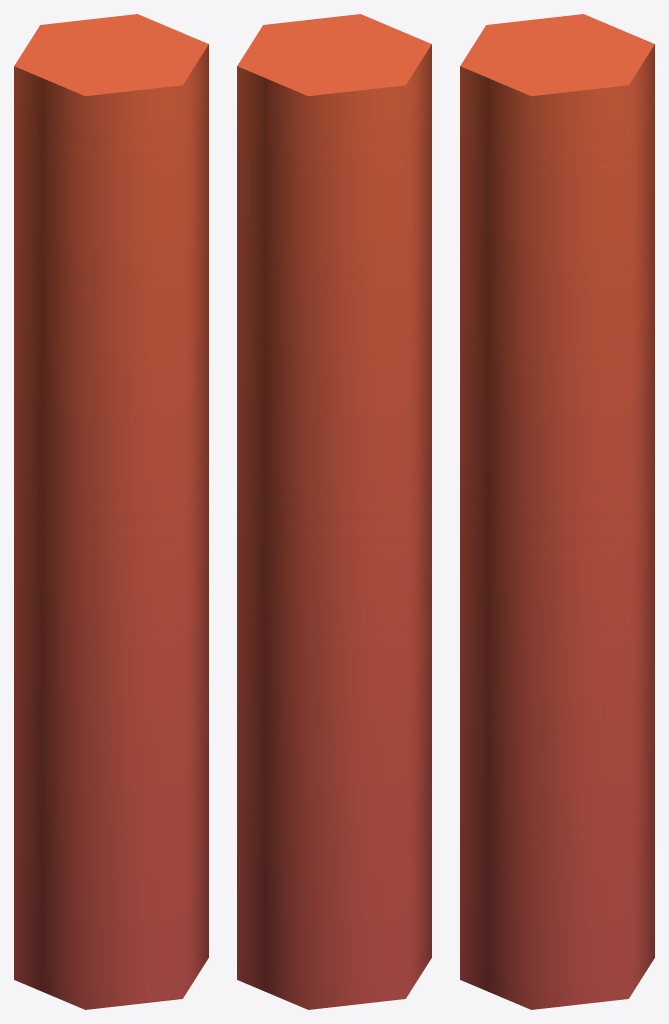
The model's file is pipe__4_4_lev4.glb.
The picture shows the model from 3 angles, left to right: view 1: azimuth 30°, elevation 25°; view 2: azimuth 150°, elevation 25°; view 3: azimuth 270°, elevation 25°; orthographic projection.
Parts seen in each view (by area): view 1: pipe__4_4_lev4; view 2: pipe__4_4_lev4; view 3: pipe__4_4_lev4.
Part boxes in pixels (left/top/right/bottom): pipe__4_4_lev4: left=14, top=14, right=208, bottom=1009; pipe__4_4_lev4: left=237, top=14, right=431, bottom=1009; pipe__4_4_lev4: left=460, top=14, right=654, bottom=1009.
Bounding box in the file's own units: 0.1932 × 1 × 0.1932.
Materials: 1 (1 with a texture image).
